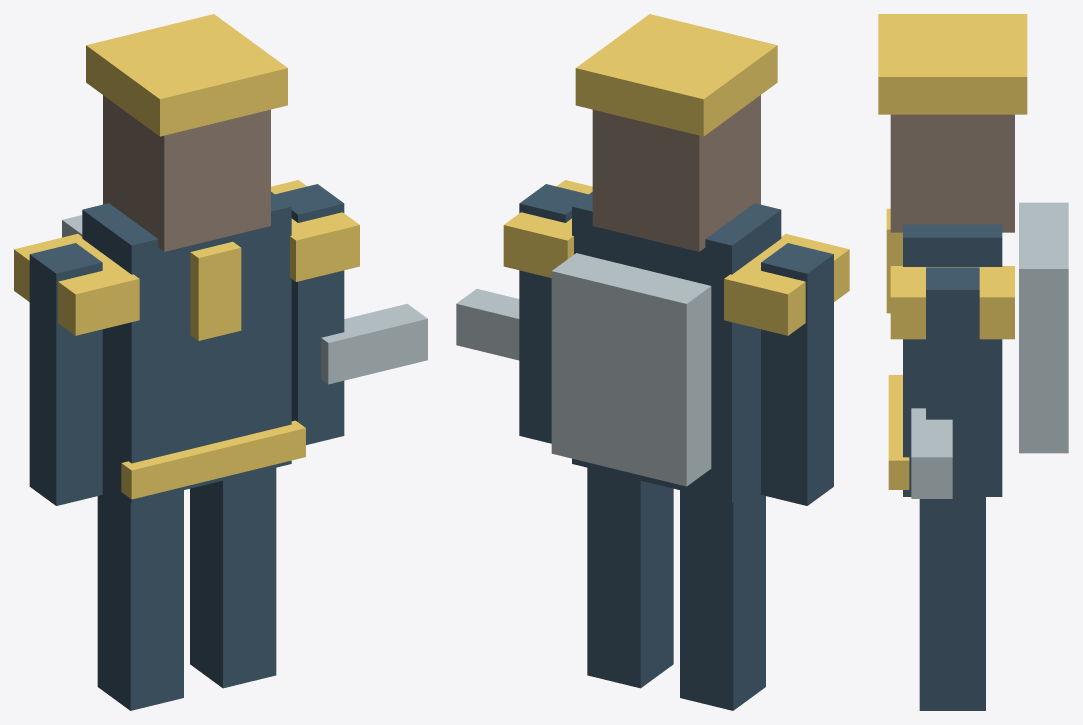
Rendered from 01_talia_cragwarden_captain_of_transit.glb.
3 views of the same model, side by side, from view 1: azimuth 30°, elevation 25°; view 2: azimuth 150°, elevation 25°; view 3: azimuth 270°, elevation 25° (orthographic).
Visible parts, largest first — view 1: Talia Cragwarden, Captain of Transit; view 2: Talia Cragwarden, Captain of Transit; view 3: Talia Cragwarden, Captain of Transit.
Part boxes in pixels (x1,y1,x2,y2): Talia Cragwarden, Captain of Transit: (14,14,427,710); Talia Cragwarden, Captain of Transit: (456,14,849,710); Talia Cragwarden, Captain of Transit: (878,14,1068,710).
Size of the model in its own units: 1.04 by 1.71 by 0.4676.
